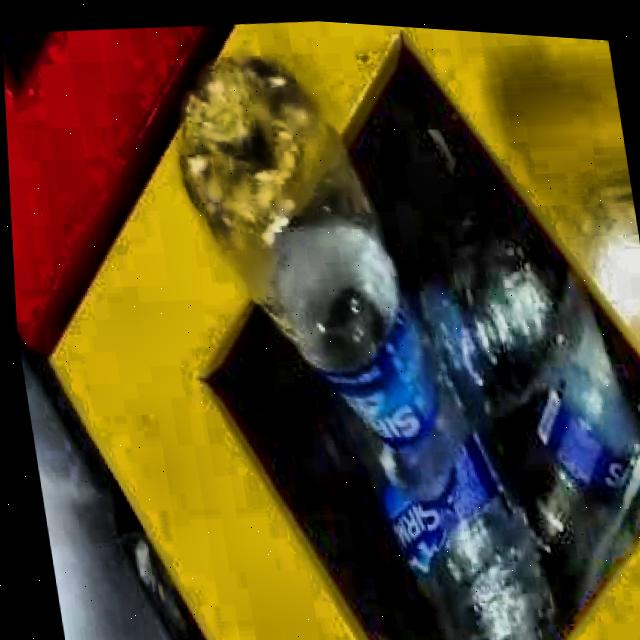plastic: (175, 50, 552, 640), (538, 315, 628, 483)
